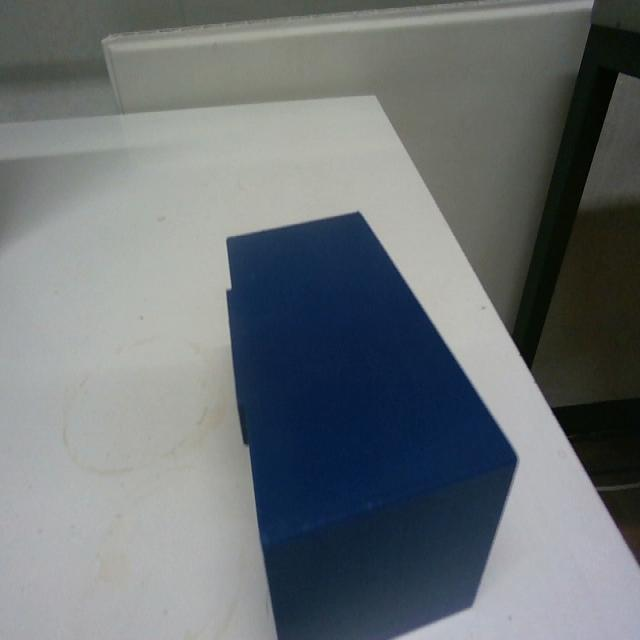Blue Cuboid: (222, 207, 519, 637)
